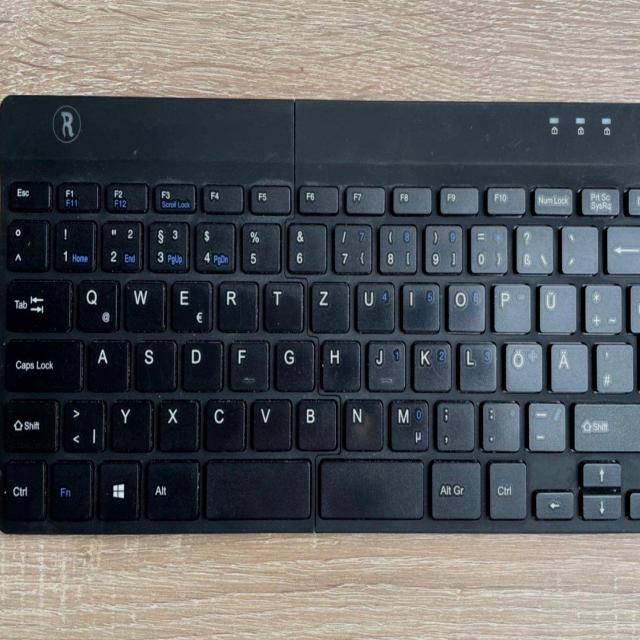0: (468, 221, 508, 273)
1: (53, 217, 95, 271)
2: (100, 217, 142, 271)
3: (146, 217, 189, 270)
4: (193, 218, 235, 272)
5: (238, 218, 279, 272)
6: (284, 219, 326, 272)
7: (331, 221, 371, 273)
8: (377, 221, 417, 273)
9: (421, 221, 463, 273)
a: (87, 336, 129, 390)
accent: (558, 220, 597, 272)
ae: (547, 339, 587, 391)
alt-left: (143, 457, 198, 519)
altgr-right: (427, 456, 480, 518)
b: (295, 395, 337, 450)
c: (202, 396, 245, 450)
caret: (5, 216, 47, 270)
comma: (433, 398, 474, 450)
d: (179, 336, 221, 390)
del: (604, 222, 640, 274)
e: (169, 277, 211, 331)
enter: (626, 278, 640, 392)
f: (227, 337, 267, 389)
g: (272, 336, 313, 390)
h: (318, 336, 360, 390)
hash: (592, 339, 632, 391)
i: (399, 279, 440, 330)
j: (365, 338, 405, 390)
k: (410, 337, 450, 391)
keyboard: (0, 90, 640, 541)
l: (456, 339, 497, 391)
less: (62, 396, 104, 452)
m: (387, 397, 429, 451)
minus: (525, 399, 565, 450)
n: (341, 395, 383, 450)
o: (445, 279, 485, 331)
oe: (502, 339, 542, 391)
p: (490, 279, 530, 332)
plus: (581, 281, 621, 332)
point: (479, 398, 519, 450)
q: (75, 277, 117, 331)
r: (215, 277, 257, 331)
s: (133, 336, 175, 390)
shift-left: (1, 394, 57, 451)
shift-lock: (1, 334, 81, 391)
shift-right: (571, 399, 640, 451)
space: (204, 455, 311, 521), (318, 454, 424, 520)
ss: (512, 221, 552, 273)
strg-left: (2, 456, 44, 520)
strg-right: (485, 458, 527, 519)
t: (261, 277, 302, 331)
tab: (2, 275, 70, 332)
u: (352, 278, 394, 332)
ue: (535, 280, 575, 333)
v: (250, 394, 292, 450)
w: (122, 276, 163, 331)
x: (156, 396, 198, 451)
y: (110, 396, 152, 452)
z: (307, 277, 348, 331)
